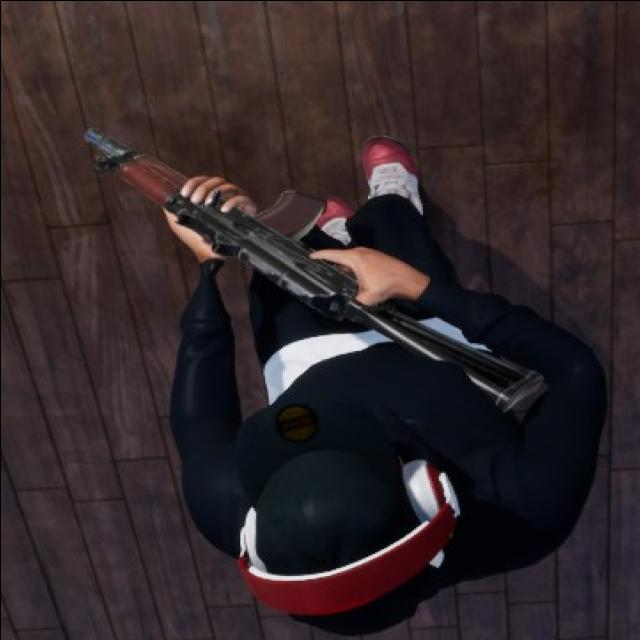rifle: (76, 126, 544, 420)
